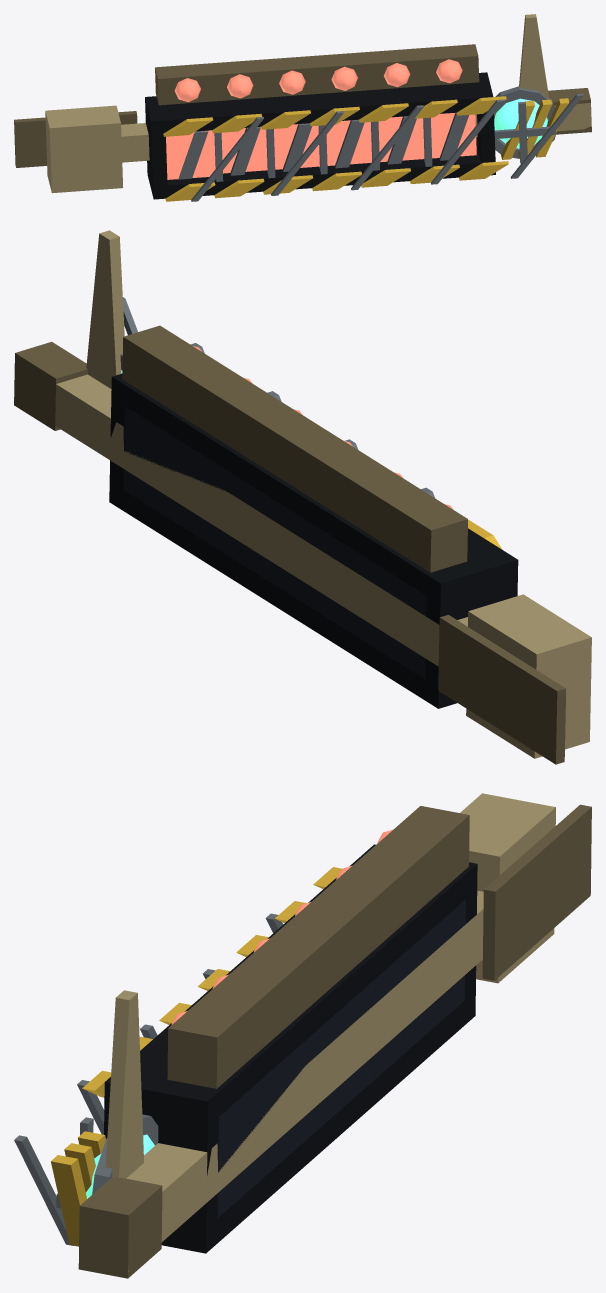
File: mast.glb
The picture shows the model from 3 angles, top to bottom: view 1: azimuth 30°, elevation 25°; view 2: azimuth 150°, elevation 25°; view 3: azimuth 270°, elevation 25°; orthographic projection. The views are drawn at different scales.
Visible parts, largest first — view 1: dnsm_mast_lampbar, dnsm_mast_bezel_t, dnsm_mast_collar, dnsm_mast_bezel_b, dnsm_mast_foot, dnsm_mast_rod, dnsm_mast_vane, dnsm_mast_sweep, dnsm_mast_seg_3, dnsm_mast_bezel_l, dnsm_mast_seg_4, dnsm_mast_seg_5 (+47 smaller); view 2: dnsm_mast_lampbar, dnsm_mast_rod, dnsm_mast_bore, dnsm_mast_bezel_t, dnsm_mast_foot, dnsm_mast_collar, dnsm_mast_bezel_b, dnsm_mast_vane, dnsm_mast_knob, dnsm_mast_bezel_l, dnsm_mast_bezel_r; view 3: dnsm_mast_lampbar, dnsm_mast_rod, dnsm_mast_bore, dnsm_mast_foot, dnsm_mast_bezel_t, dnsm_mast_knob, dnsm_mast_bezel_b, dnsm_mast_collar, dnsm_mast_vane, dnsm_mast_bezel_r, dnsm_mast_capstripe_2, dnsm_mast_scrim_4 (+3 smaller).
Part boxes in pixels (x1,y1,x2,y2): dnsm_mast_lampbar: (155, 44, 479, 105); dnsm_mast_bezel_t: (145, 72, 486, 134); dnsm_mast_collar: (45, 105, 123, 193); dnsm_mast_bezel_b: (148, 149, 495, 199); dnsm_mast_foot: (14, 111, 137, 167); dnsm_mast_rod: (121, 103, 591, 162); dnsm_mast_vane: (519, 14, 549, 120); dnsm_mast_sweep: (166, 130, 215, 179); dnsm_mast_seg_3: (326, 120, 371, 165); dnsm_mast_bezel_l: (145, 98, 167, 199); dnsm_mast_seg_4: (378, 116, 424, 162); dnsm_mast_seg_5: (431, 113, 476, 158); dnsm_mast_lampbar: (122, 325, 467, 572); dnsm_mast_rod: (14, 374, 467, 666); dnsm_mast_bore: (123, 406, 426, 678); dnsm_mast_bezel_t: (111, 376, 517, 604); dnsm_mast_foot: (438, 614, 566, 764); dnsm_mast_collar: (466, 594, 591, 758); dnsm_mast_bezel_b: (109, 481, 456, 708); dnsm_mast_vane: (86, 230, 124, 388); dnsm_mast_knob: (14, 341, 87, 430); dnsm_mast_bezel_l: (425, 560, 518, 707); dnsm_mast_bezel_r: (109, 373, 124, 510); dnsm_mast_lampbar: (167, 806, 469, 1088); dnsm_mast_rod: (126, 890, 483, 1271); dnsm_mast_bore: (217, 899, 465, 1217); dnsm_mast_foot: (482, 804, 591, 980); dnsm_mast_bezel_t: (104, 844, 477, 1126); dnsm_mast_knob: (78, 1177, 162, 1278); dnsm_mast_bezel_b: (161, 997, 475, 1253); dnsm_mast_collar: (460, 793, 555, 983); dnsm_mast_vane: (105, 990, 143, 1178); dnsm_mast_bezel_r: (104, 1077, 218, 1253); dnsm_mast_capstripe_2: (51, 1155, 86, 1246); dnsm_mast_scrim_4: (14, 1135, 73, 1245).
Size of the model in its own units: 0.0687 by 0.0221 by 0.0391.
